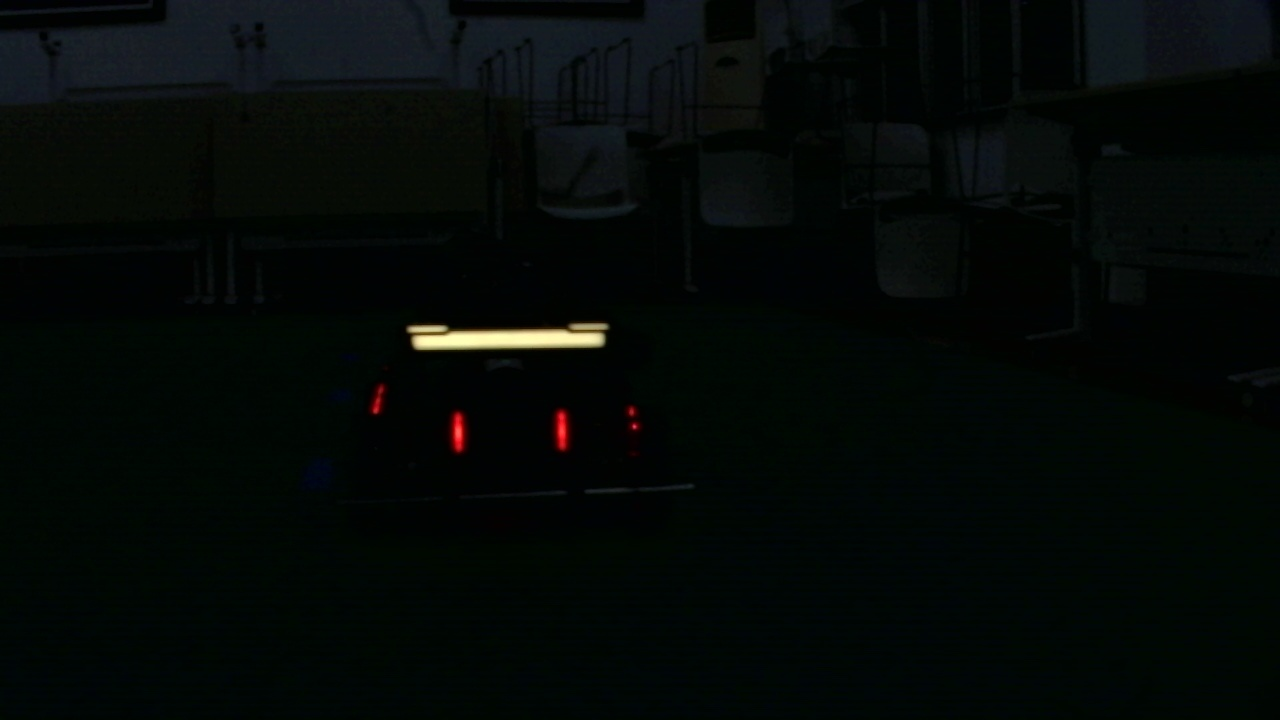lamp: (551, 408, 572, 451), (451, 404, 467, 455)
pair1: (453, 411, 568, 452)
